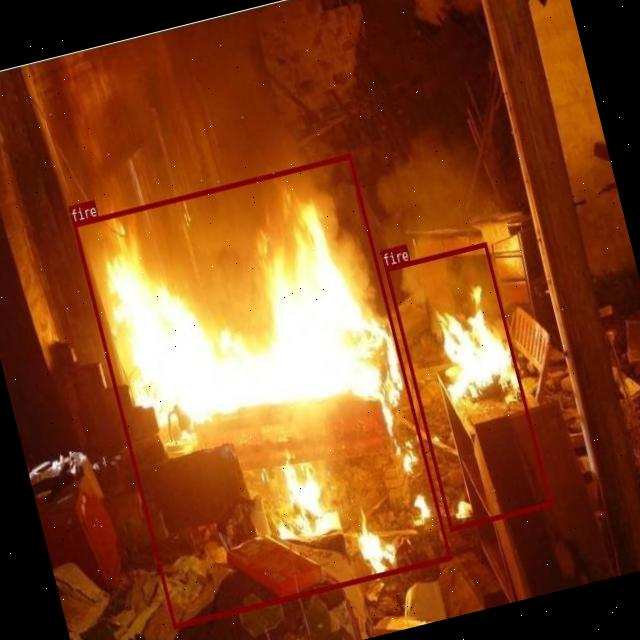fire: (72, 153, 450, 627), (384, 241, 551, 531)
